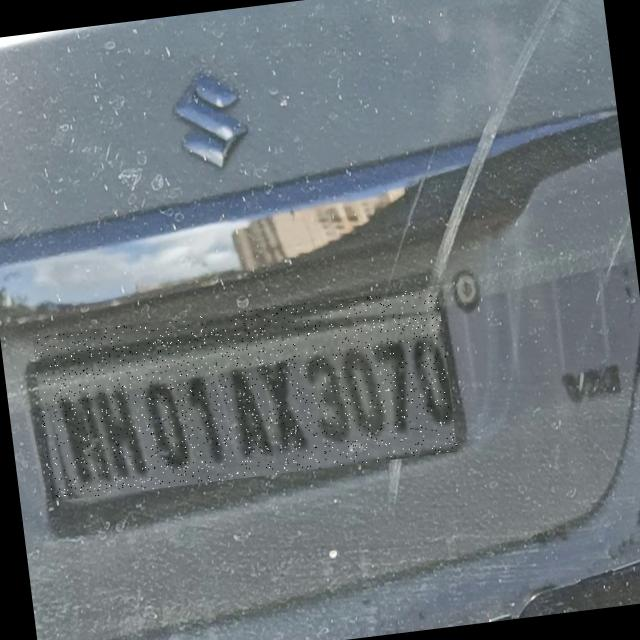Plate: (33, 288, 458, 502)
